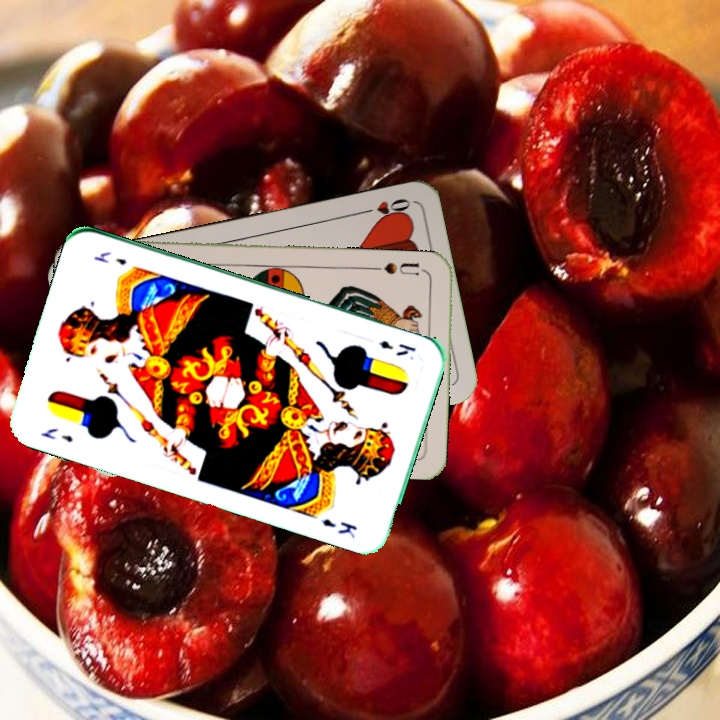EK: (375, 336, 419, 359), (37, 424, 76, 445)
HO: (355, 194, 413, 222)
SU: (369, 258, 421, 278)
